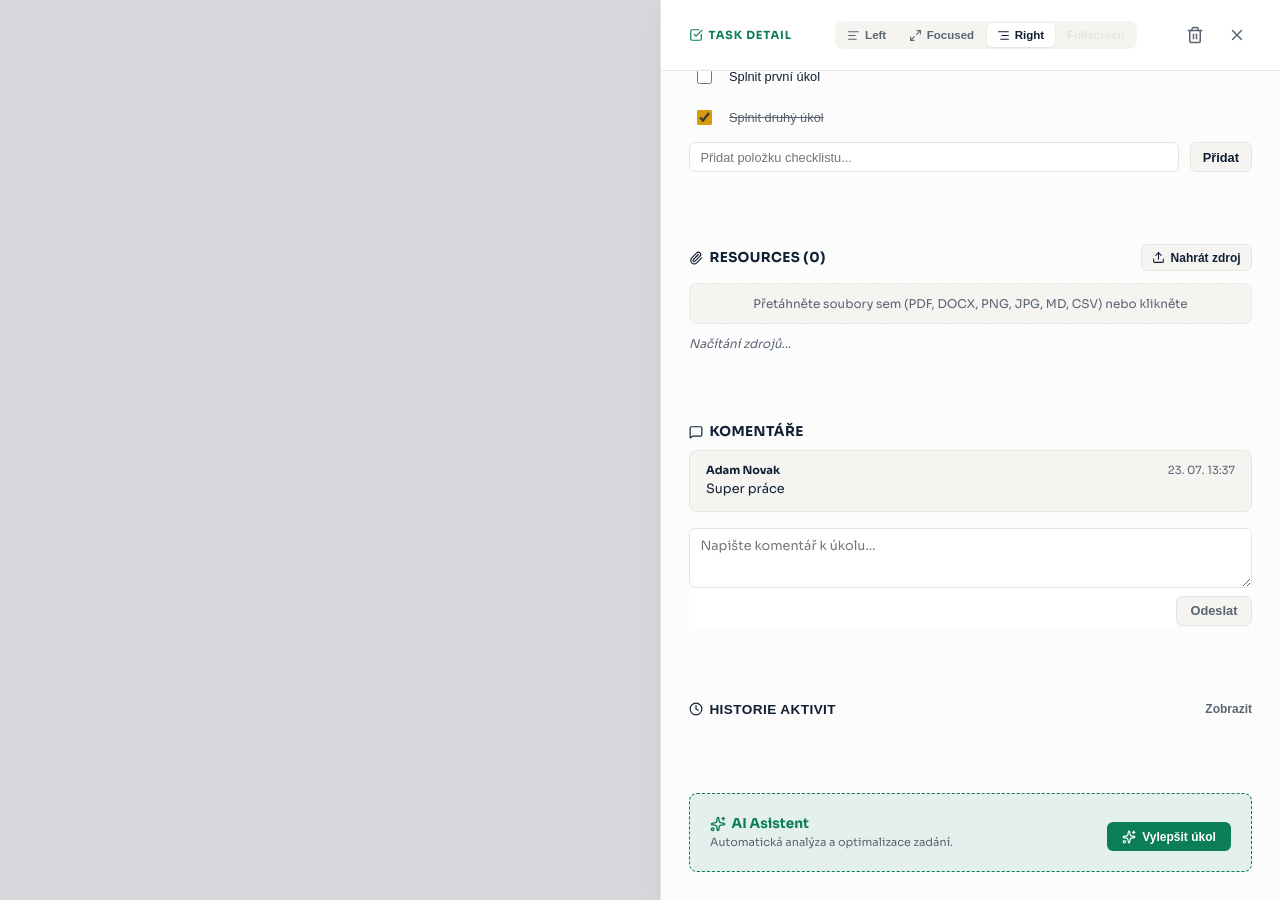
Test case: TaskDetailDrawer Component Unit Tests › AI Assistant section allows discarding suggestion
The image size is (1280, 900).
(page scrolled)
Click the button with test id "ai-improve-btn": (1169, 837) [1107, 822, 1231, 851]
(page scrolled)
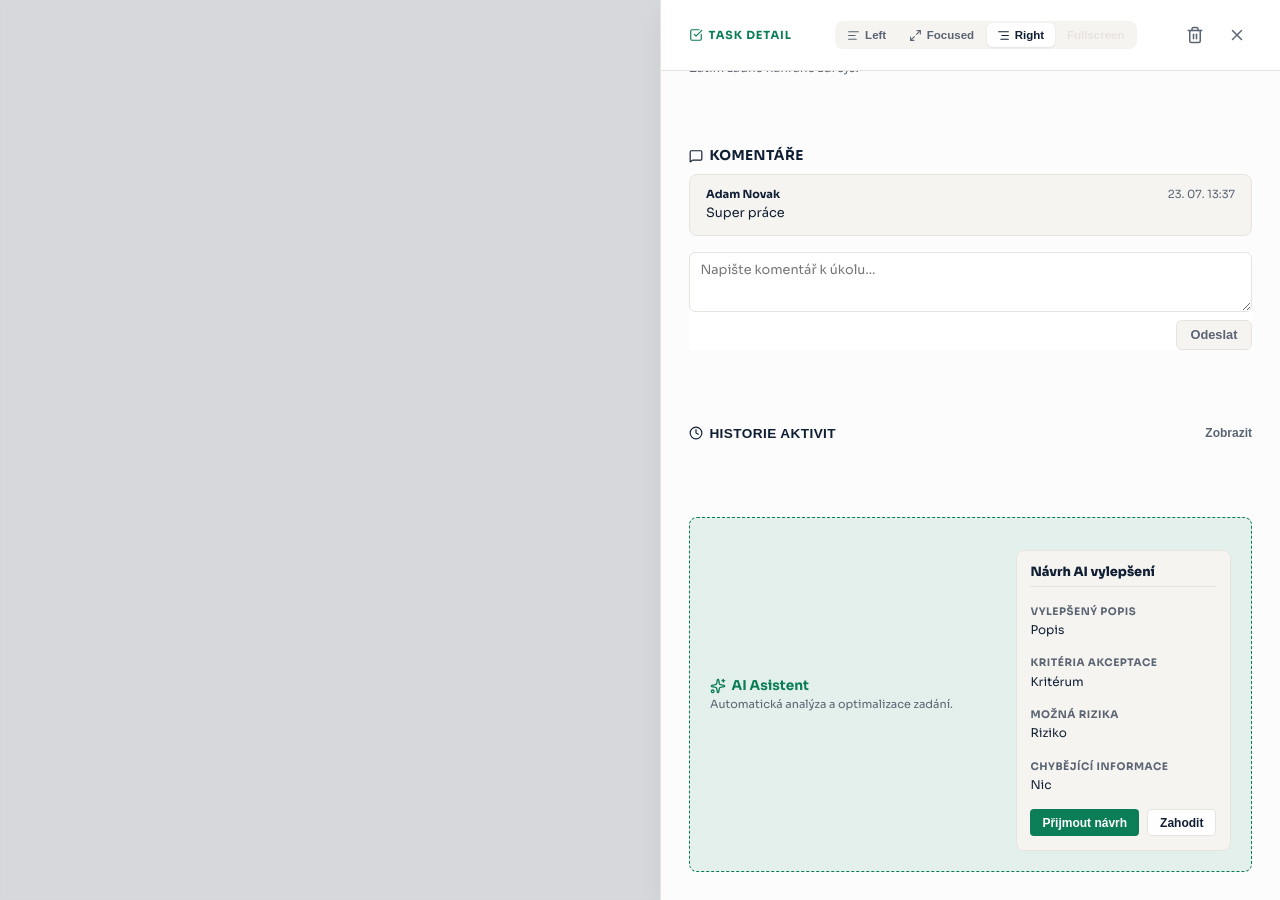
Expected: the element with test id "ai-preview" is shown, [1016, 550, 1231, 851]
Click the button with test id "ai-discard-btn": (1182, 823) [1147, 809, 1216, 836]
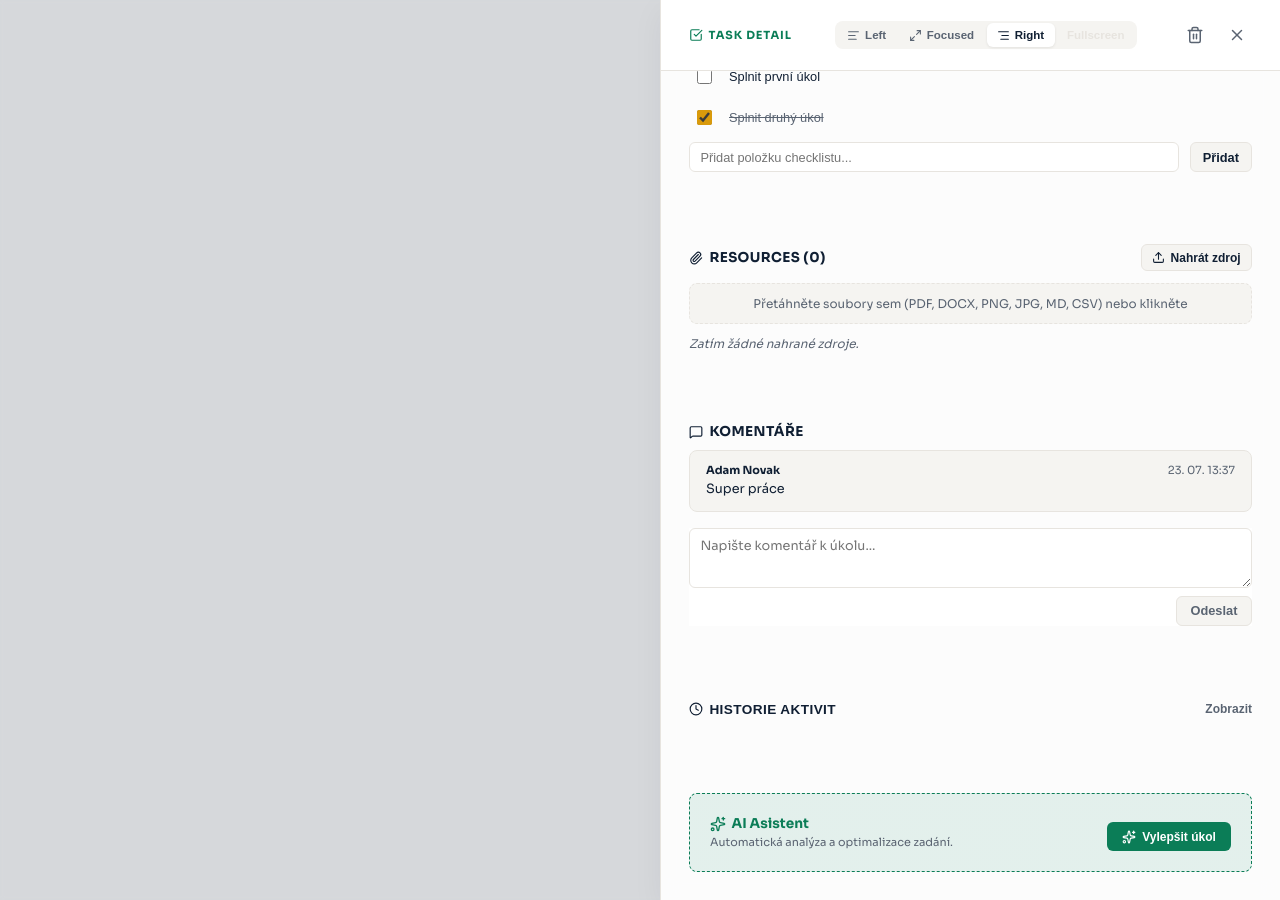
Expected: the element with test id "ai-preview" is gone
